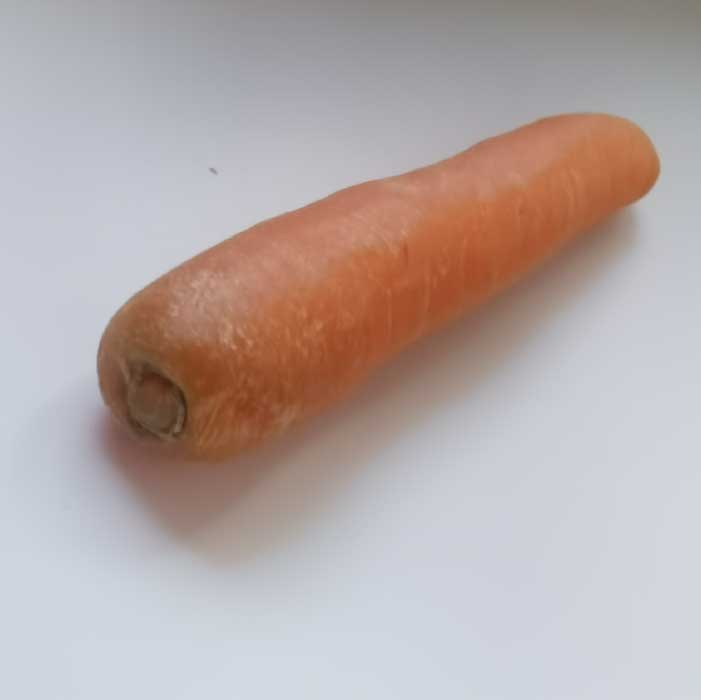Karotte: (97, 113, 661, 457)
